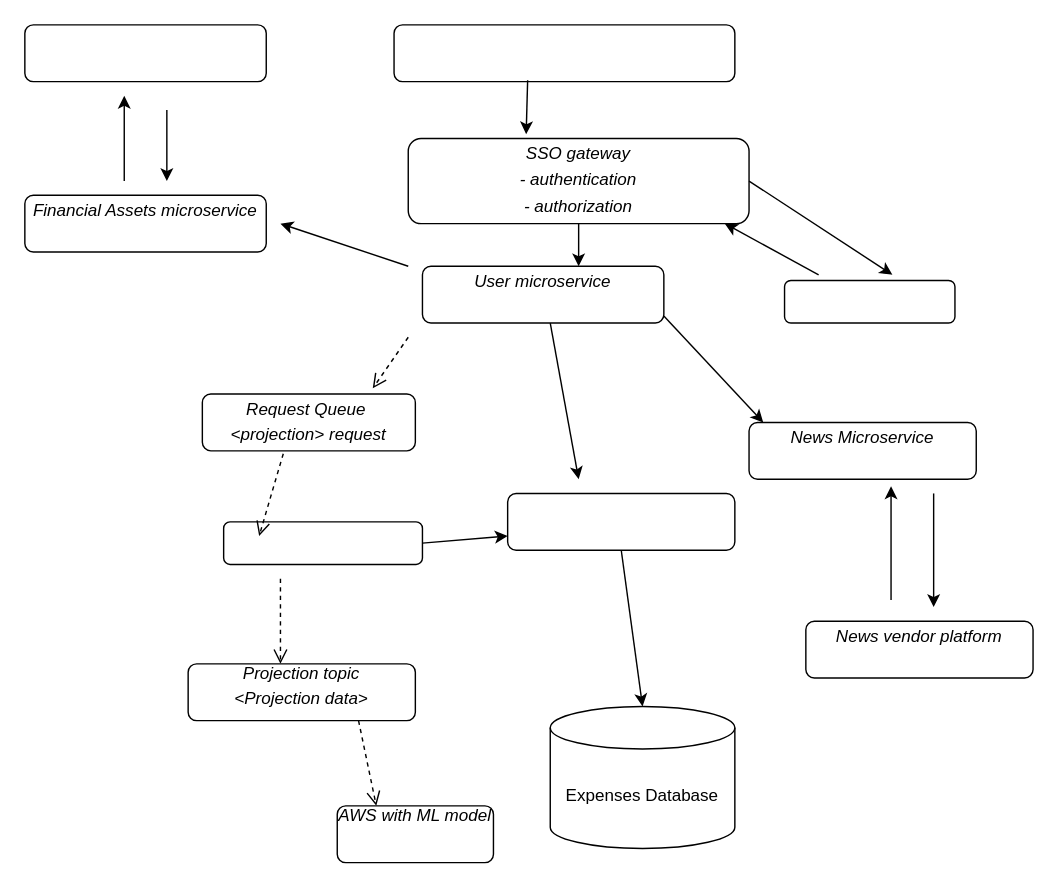
This 1058x888 diagram has some shape labels left out. The shapes that lost their labels are listed below. From the top down, each one's centre as x and y in pixels, then its label:
At point (144, 52): "Trading platform".
At point (564, 52): "User enters the app on Android App".
At point (869, 301): "Identity provider".
At point (620, 521): "Expenses microservice".
At point (322, 542): "Projection microservice".
